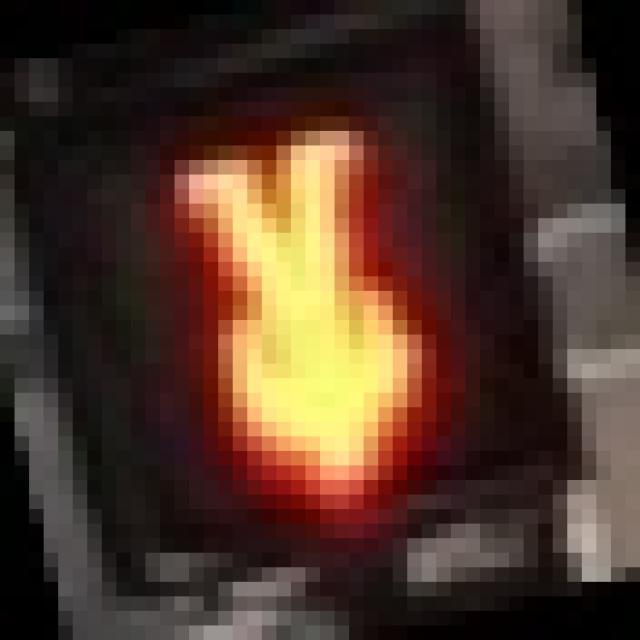red_light: (44, 44, 552, 552)
